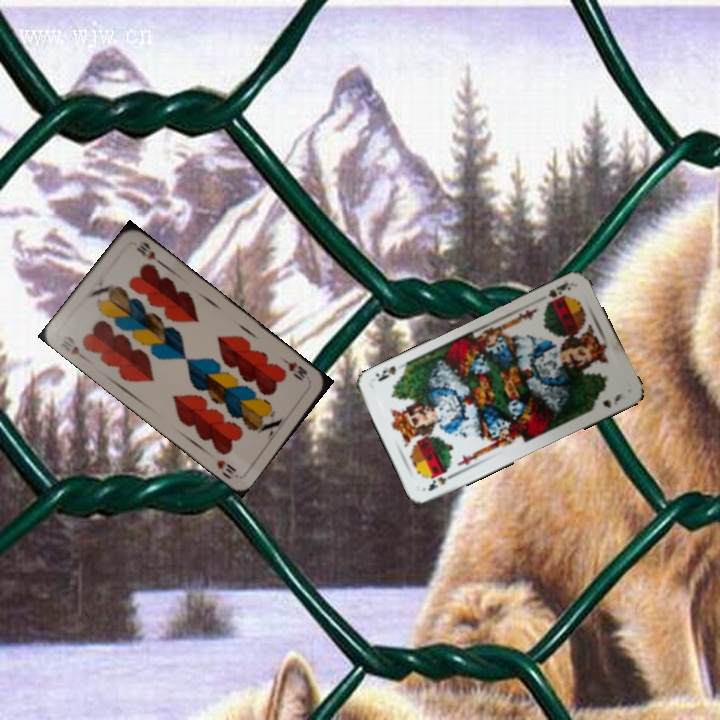H10: (279, 354, 310, 384), (60, 332, 90, 363)
SK: (542, 277, 573, 308), (424, 468, 459, 494)
